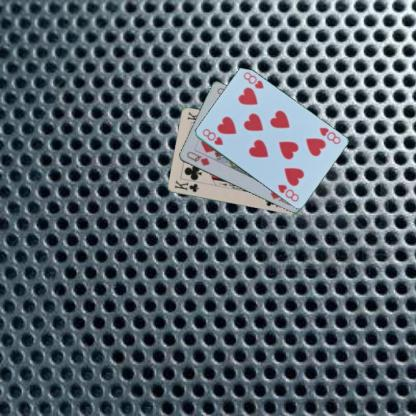8h: (316, 124, 342, 146), (199, 126, 224, 147)
Kc: (172, 178, 200, 194)
Qd: (184, 149, 211, 167)
